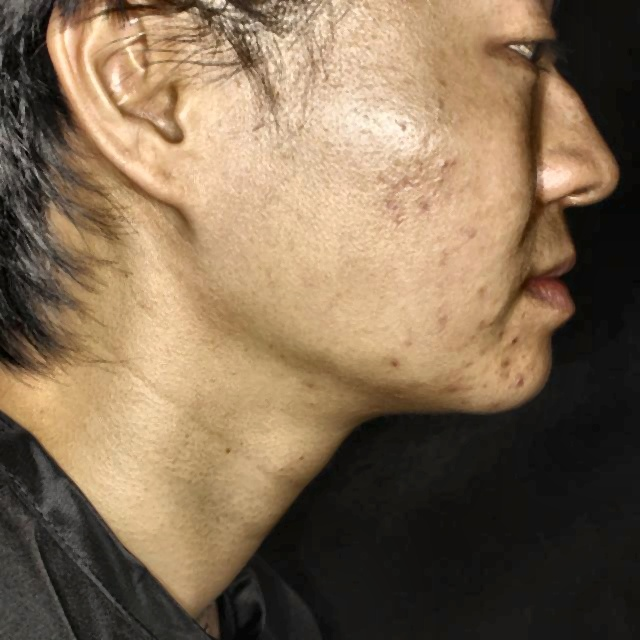comedone: (431, 368, 466, 408), (498, 357, 536, 393)
